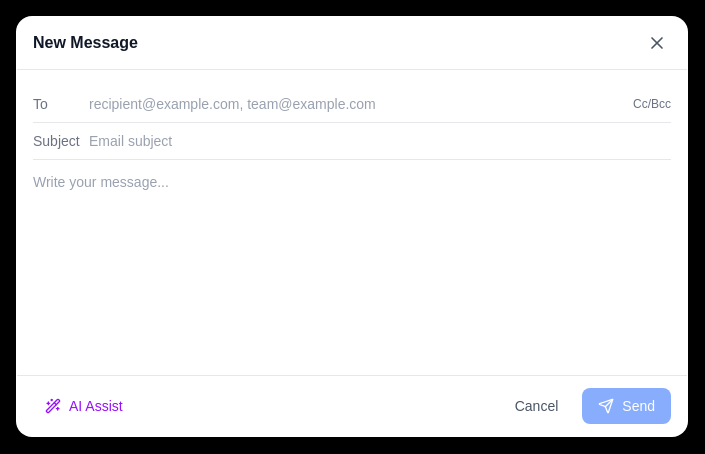
Test: Composer › fills content using AI Assist
The image size is (705, 454).
Step 1. Type "Subject" into the field with placeholder "Email subject" → (380,140), box x1=89 y1=130 x2=671 y2=150
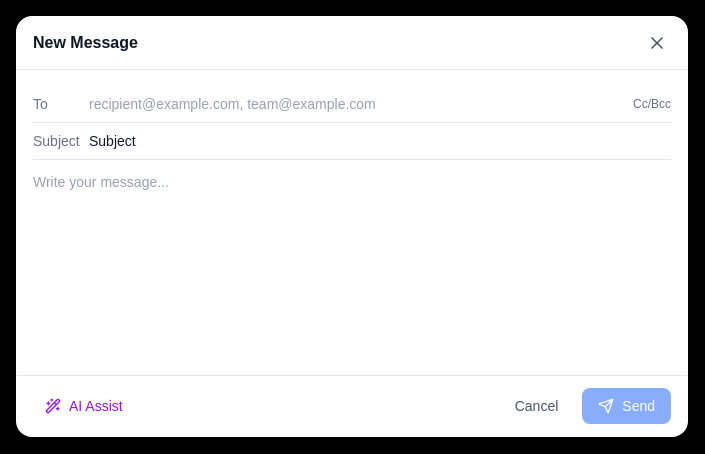
Step 2. Click the button "AI Assist" → (84,406), box x1=33 y1=390 x2=135 y2=422
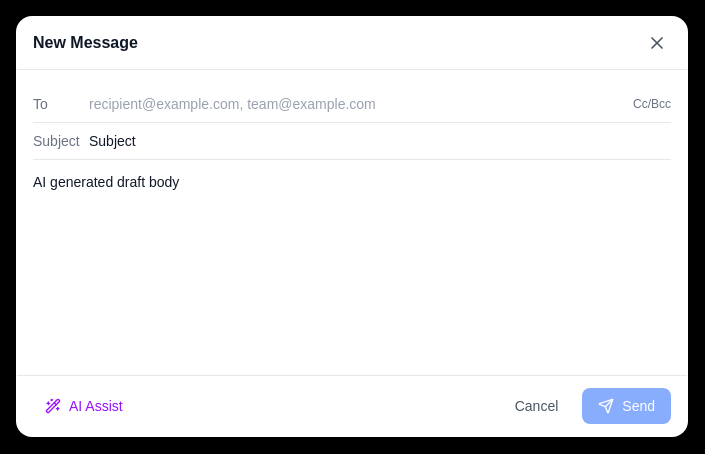
Check: the text box showing "AI generated draft body" is shown, box x1=33 y1=160 x2=671 y2=352
